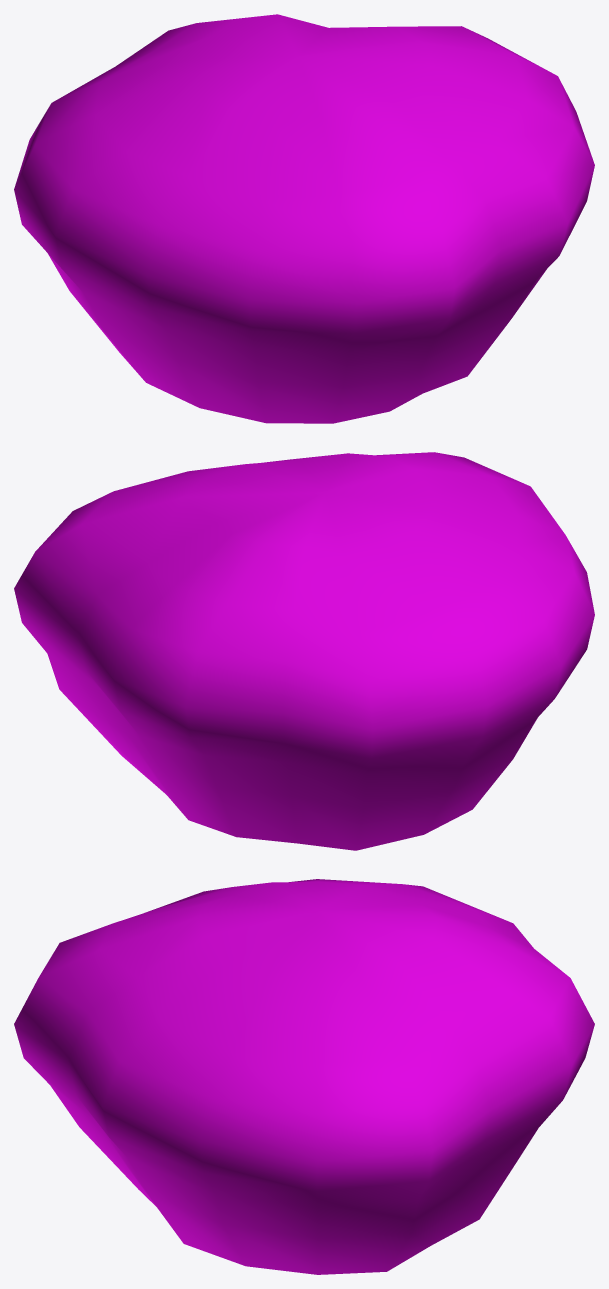
The picture shows the model from 3 angles, top to bottom: view 1: azimuth 30°, elevation 25°; view 2: azimuth 150°, elevation 25°; view 3: azimuth 270°, elevation 25°; orthographic projection. The views are drawn at different scales.
Parts seen in each view (by area): view 1: G:\FFXIV-MapTools\exports\s1f4\bg\ffxiv\sea_s1\fld\s1f4\bgpa; view 2: G:\FFXIV-MapTools\exports\s1f4\bg\ffxiv\sea_s1\fld\s1f4\bgpa; view 3: G:\FFXIV-MapTools\exports\s1f4\bg\ffxiv\sea_s1\fld\s1f4\bgpa.
Part boxes in pixels (x1=…): G:\FFXIV-MapTools\exports\s1f4\bg\ffxiv\sea_s1\fld\s1f4\bgpa: x1=14, y1=14, x2=594, y2=423; G:\FFXIV-MapTools\exports\s1f4\bg\ffxiv\sea_s1\fld\s1f4\bgpa: x1=14, y1=452, x2=594, y2=850; G:\FFXIV-MapTools\exports\s1f4\bg\ffxiv\sea_s1\fld\s1f4\bgpa: x1=14, y1=879, x2=594, y2=1274.
Size of the model in its own units: 1.85 by 0.9979 by 1.84.
